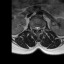CCS_normal: (36, 24, 38, 32)
LFS_stenosis: (40, 26, 42, 31)
LLS_normal: (38, 25, 40, 31)
RFS_stenosis: (32, 26, 34, 31)
RLS_normal: (34, 25, 36, 31)
